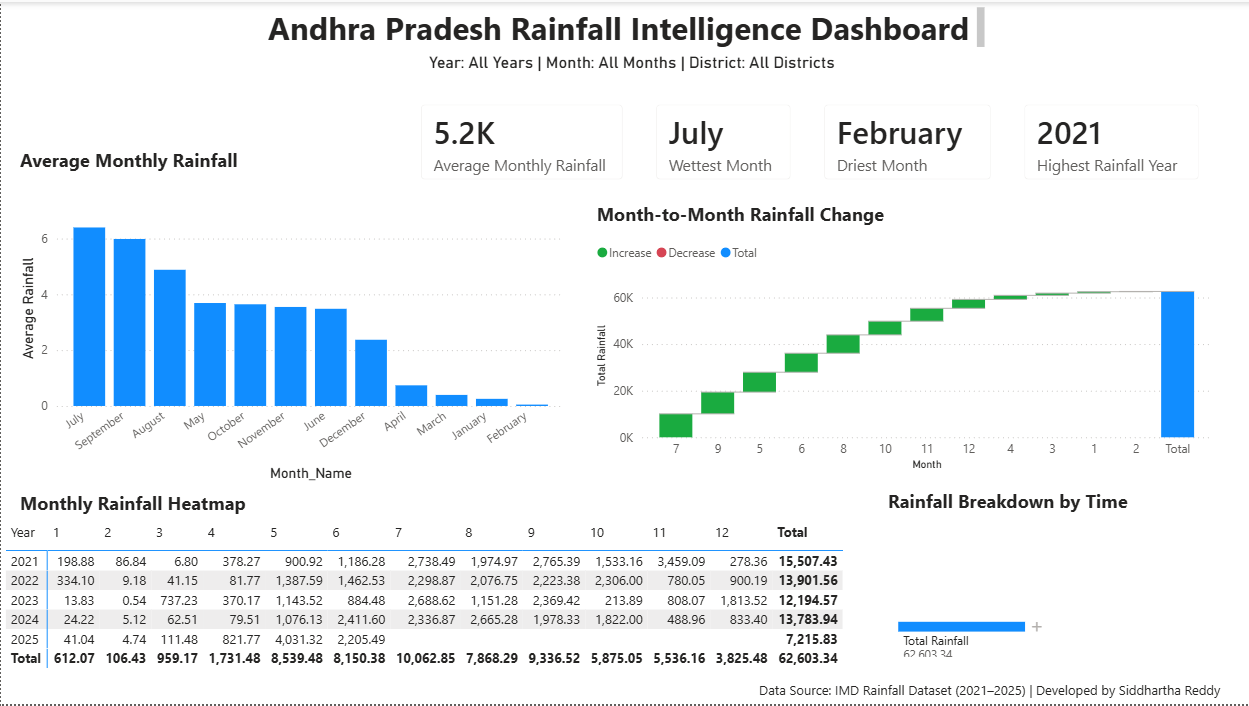

The page's visual inventory and layout, read from the dashboard file:
{"tool":"powerbi","page":{"name":"Temporal Analysis","canvas":[1280,720],"ordinal":2},"visuals":[{"type":"textbox","box":[268.4,1.4,745,51.7],"z":0},{"type":"textbox","box":[433.5,53.1,440.7,35.9],"z":1000},{"type":"cardVisual","fields":{"Data":["Dummy.Average Monthly Rainfall"]},"box":[413.4,89,241.2,112],"z":3000},{"type":"cardVisual","fields":{"Data":["Dummy.Highest Rainfall Year"]},"box":[1032.1,89,213.9,112],"z":4000},{"type":"cardVisual","fields":{"Data":["Dummy.Driest Month"]},"box":[826.8,89,205.3,112],"z":5000},{"type":"cardVisual","fields":{"Data":["Dummy.Wettest Month"]},"box":[654.6,89,172.3,112],"z":6000},{"type":"clusteredColumnChart","fields":{"Category":["date_dim.Month_Name"],"Y":["Dummy.Average Rainfall"]},"box":[14.4,201,568.4,295.7],"z":7000},{"type":"pivotTable","fields":{"Columns":["date_dim.Month"],"Rows":["date_dim.Year"],"Values":["Dummy.Total Rainfall"]},"box":[0,529.7,890,162.2],"z":8000},{"type":"waterfallChart","fields":{"Category":["date_dim.Month"],"Y":["Dummy.Total Rainfall"]},"box":[605.7,238.3,640.2,248.3],"z":9000},{"type":"textbox","box":[605.7,201,341.6,37.3],"z":10000},{"type":"textbox","box":[14.4,496.7,246.9,43.1],"z":11000},{"type":"textbox","box":[14.4,145,235.4,41.6],"z":12000},{"type":"decompositionTreeVisual","fields":{"Analyze":["Dummy.Total Rainfall"],"ExplainBy":["date_dim.Year","date_dim.Quarter","date_dim.Month_Name"]},"box":[890,529.7,341.6,147.8],"z":13000},{"type":"textbox","box":[904.3,495.2,300,44.5],"z":14000},{"type":"textbox","box":[771.9,691.3,508.1,28.7],"z":14001}]}

Visuals, with their boxes in screenshot pixels (x1, y1, x2, y2), scaled from the page's 1280x720 canvas onto the 1249x706 screenshot:
textbox: rect(262, 1, 989, 52)
textbox: rect(423, 52, 853, 87)
cardVisual - Dummy.Average Monthly Rainfall: rect(403, 87, 639, 197)
cardVisual - Dummy.Highest Rainfall Year: rect(1007, 87, 1216, 197)
cardVisual - Dummy.Driest Month: rect(807, 87, 1007, 197)
cardVisual - Dummy.Wettest Month: rect(639, 87, 807, 197)
clusteredColumnChart - date_dim.Month_Name x Dummy.Average Rainfall: rect(14, 197, 569, 487)
pivotTable - date_dim.Month x date_dim.Year: rect(0, 519, 868, 678)
waterfallChart - date_dim.Month x Dummy.Total Rainfall: rect(591, 234, 1216, 477)
textbox: rect(591, 197, 924, 234)
textbox: rect(14, 487, 255, 529)
textbox: rect(14, 142, 244, 183)
decompositionTreeVisual - Dummy.Total Rainfall x date_dim.Year: rect(868, 519, 1202, 664)
textbox: rect(882, 486, 1175, 529)
textbox: rect(753, 678, 1248, 705)
